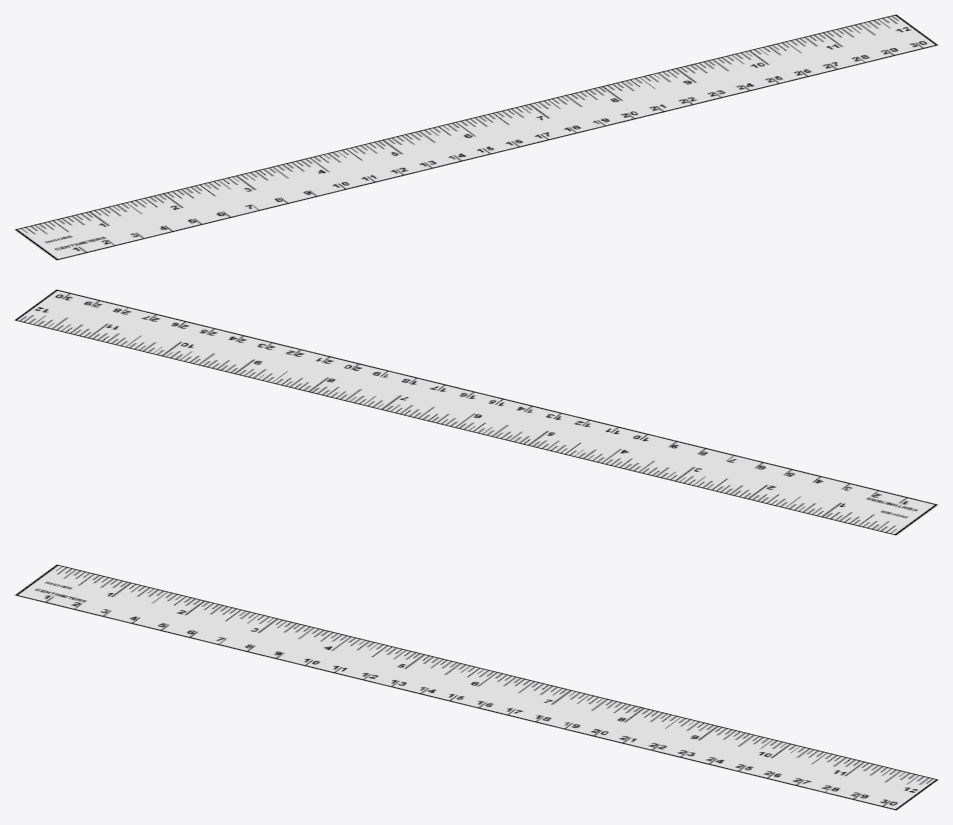
The model's file is Ruler.fbx.
3 views of the same model, one above another, from view 1: azimuth 30°, elevation 25°; view 2: azimuth 150°, elevation 25°; view 3: azimuth 330°, elevation 25° (orthographic).
Parts seen in each view (by area): view 1: Ruler; view 2: Ruler; view 3: Ruler.
Boxes of the visible parts, x1=… form: Ruler: x1=14, y1=14, x2=938, y2=260; Ruler: x1=14, y1=289, x2=938, y2=535; Ruler: x1=14, y1=564, x2=938, y2=810.
Size of the model in its own units: 363 by 0 by 30.23.
1 material, 1 textured.
